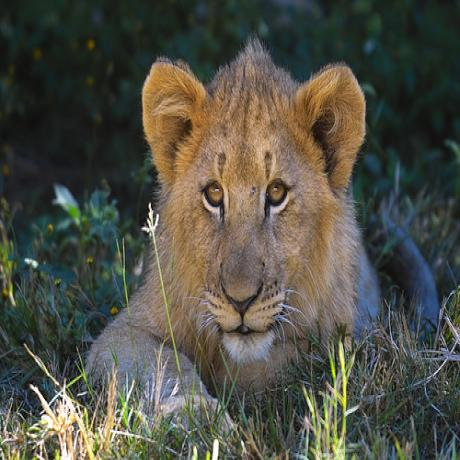Lion: (89, 37, 389, 438)
